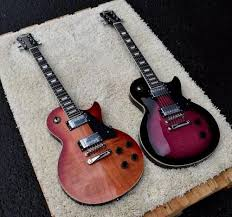Violin: (1, 31, 182, 216)
